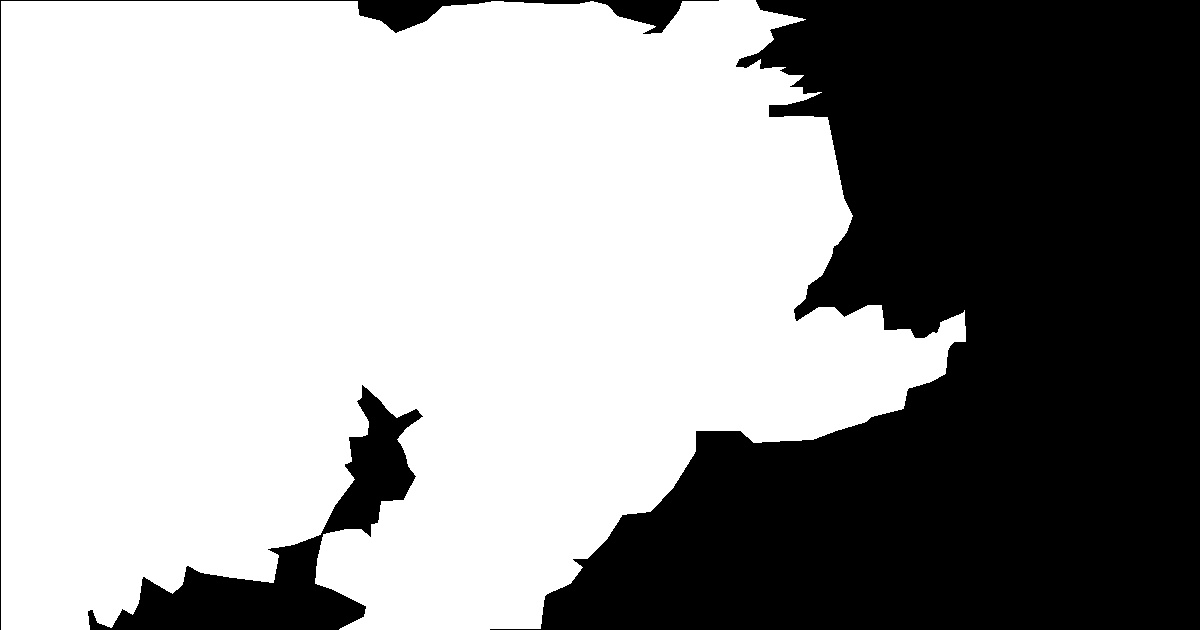Fire: (175, 10, 976, 429)
